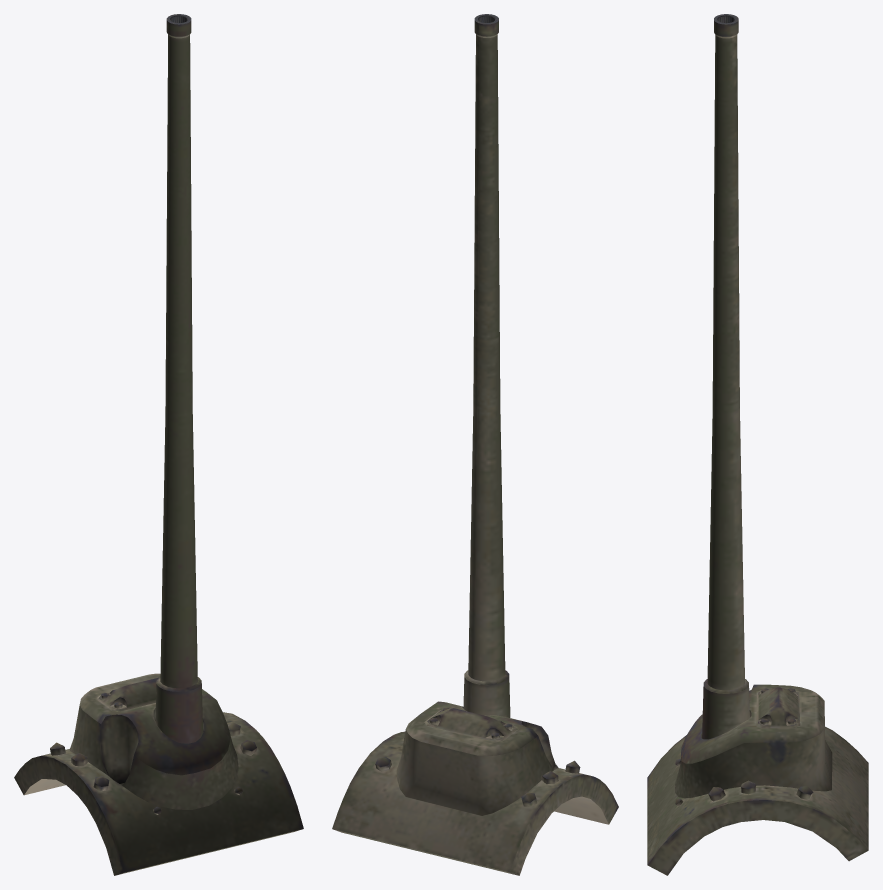
The model's file is Gun_05.glb.
The picture shows the model from 3 angles, left to right: view 1: azimuth 30°, elevation 25°; view 2: azimuth 150°, elevation 25°; view 3: azimuth 270°, elevation 25°; orthographic projection.
Visible parts, largest first — view 1: set_0_group_0; view 2: set_0_group_0; view 3: set_0_group_0.
Boxes of the visible parts, x1=… form: set_0_group_0: x1=14, y1=14, x2=303, y2=875; set_0_group_0: x1=332, y1=14, x2=618, y2=875; set_0_group_0: x1=647, y1=14, x2=868, y2=875.
Size of the model in its own units: 0.71 by 3.07 by 0.7537.
Materials: 1 (1 with a texture image).
